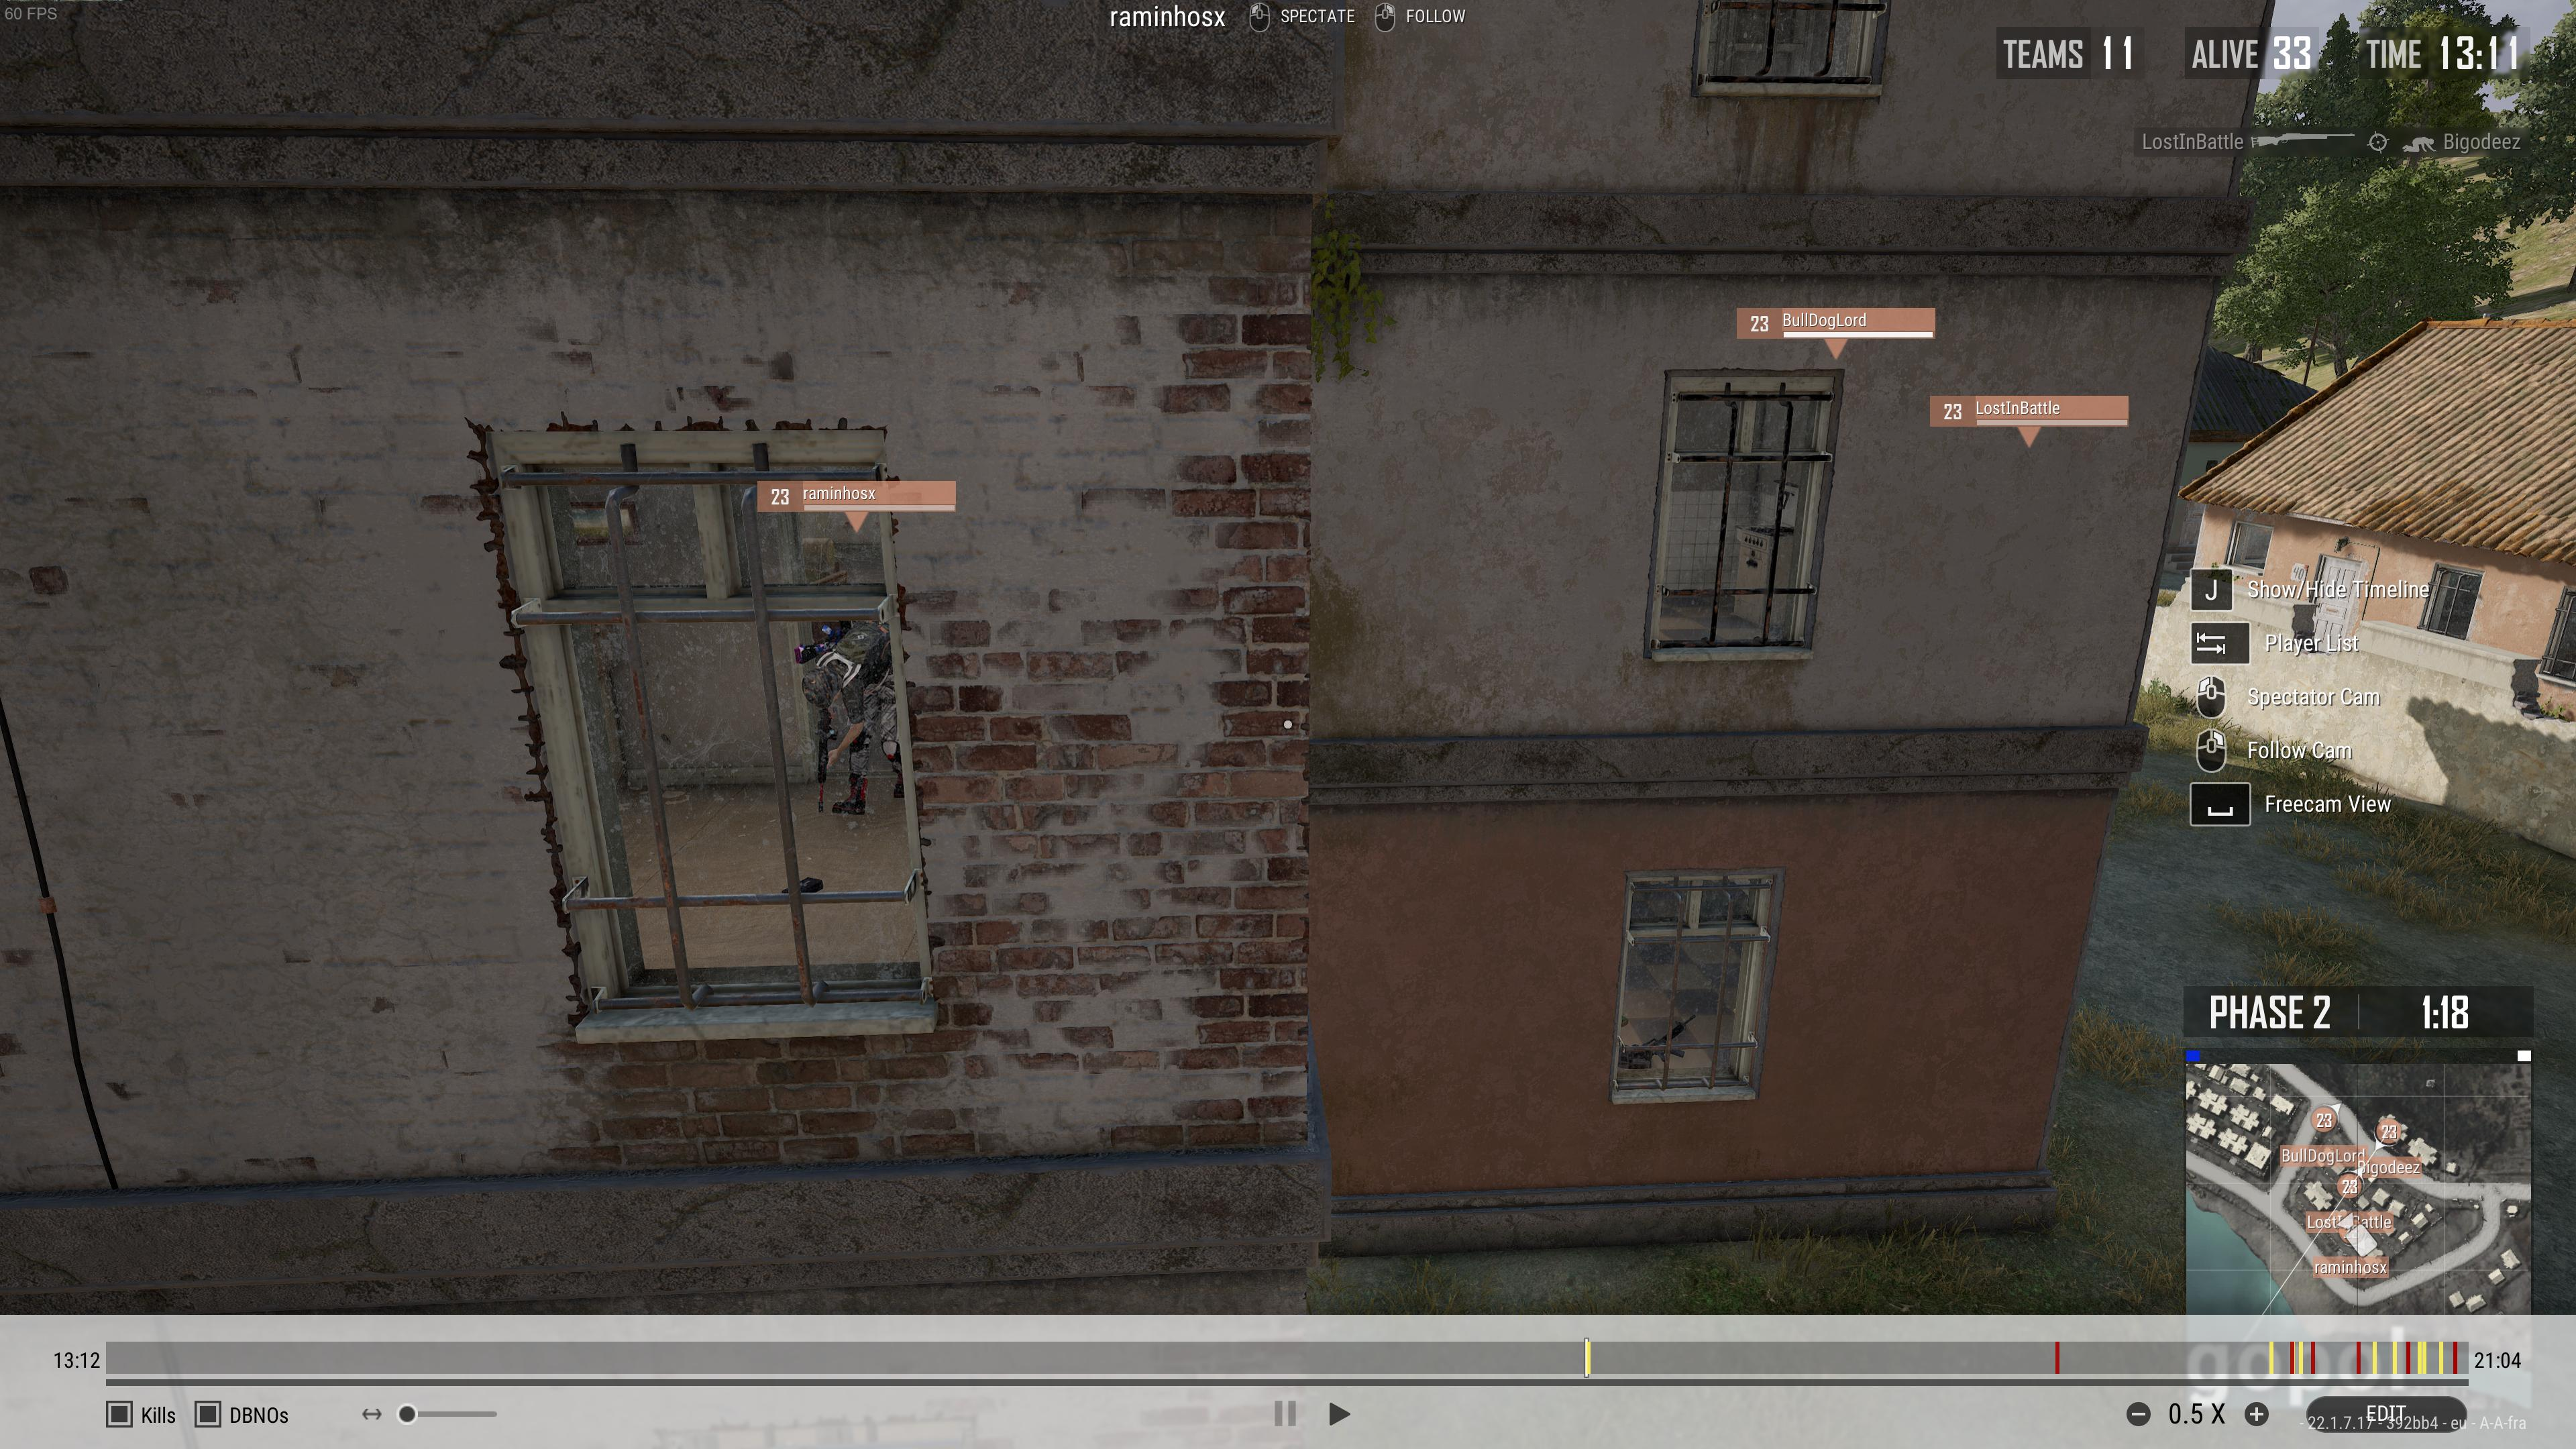enemy: (794, 616, 904, 817)
enemy_head: (800, 665, 842, 709)
